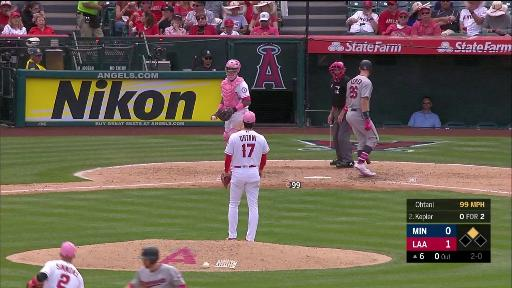pitcher: (221, 111, 270, 246)
